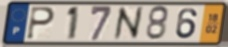1: (66, 6, 81, 41)
6: (175, 7, 198, 40)
7: (90, 4, 114, 42)
8: (144, 5, 171, 43)
N: (113, 5, 145, 42)
P: (25, 5, 57, 41)
